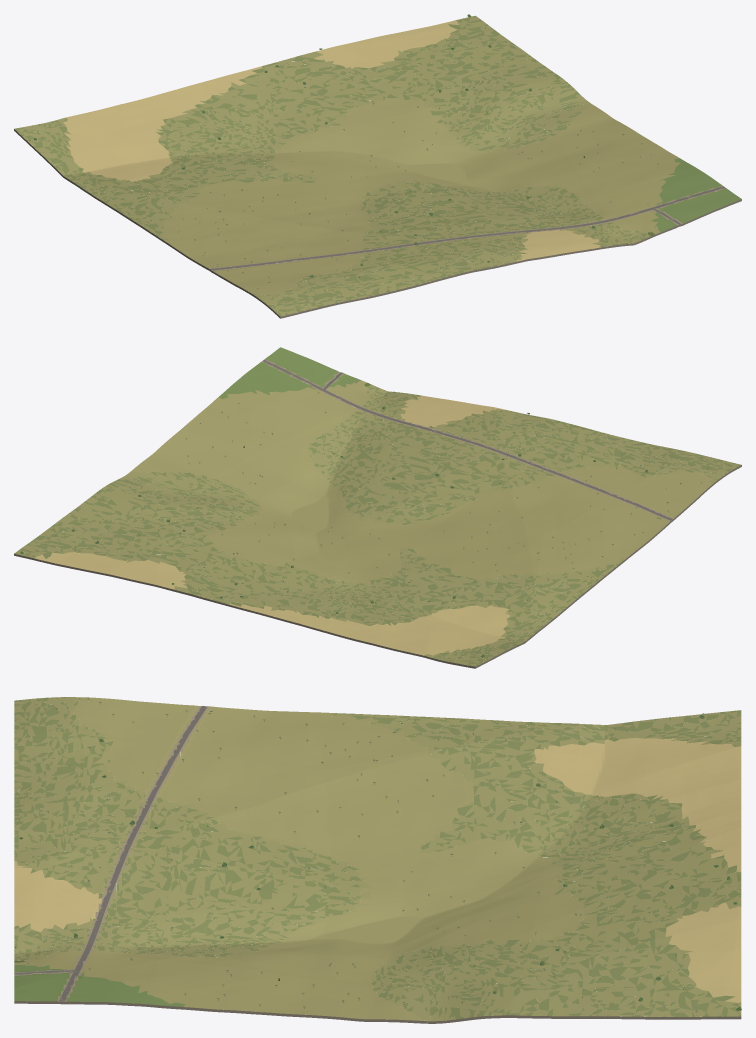
File: parca_-2_-5-yakin.glb
The picture shows the model from 3 angles, top to bottom: view 1: azimuth 30°, elevation 25°; view 2: azimuth 150°, elevation 25°; view 3: azimuth 270°, elevation 25°; orthographic projection. The views are drawn at different scales.
Visible parts, largest first — view 1: parca_-2_-5_arazi, parca_-2_-5_yollar, parca_-2_-5_bitkiler; view 2: parca_-2_-5_arazi, parca_-2_-5_yollar, parca_-2_-5_bitkiler; view 3: parca_-2_-5_arazi, parca_-2_-5_yollar, parca_-2_-5_bitkiler.
Boxes of the visible parts, box(x1,y1,x2,y2) form: parca_-2_-5_arazi: box(14, 15, 741, 318); parca_-2_-5_yollar: box(210, 186, 724, 270); parca_-2_-5_bitkiler: box(29, 14, 669, 305); parca_-2_-5_arazi: box(14, 347, 741, 668); parca_-2_-5_yollar: box(263, 359, 673, 520); parca_-2_-5_bitkiler: box(20, 382, 722, 658); parca_-2_-5_arazi: box(14, 697, 741, 1023); parca_-2_-5_yollar: box(14, 706, 207, 1001); parca_-2_-5_bitkiler: box(15, 701, 741, 1012).
Size of the model in its own units: 1001 by 62.59 by 1001.
